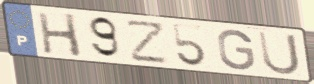5: (170, 21, 209, 69)
9: (86, 15, 123, 60)
G: (216, 28, 257, 72)
H: (35, 11, 85, 59)
U: (255, 29, 303, 77)
Z: (124, 20, 171, 65)
